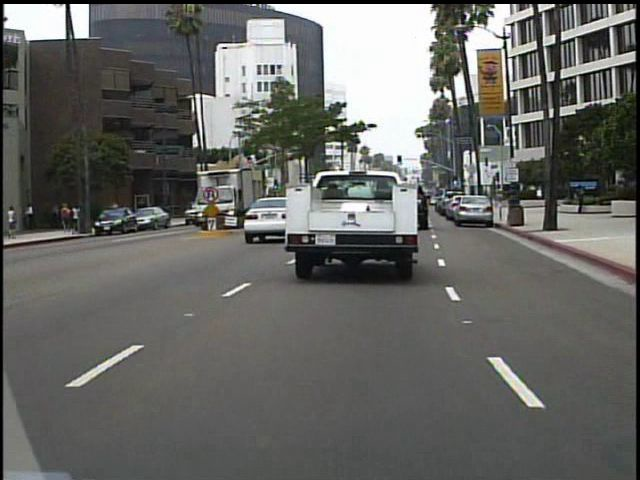person: (572, 180, 588, 215), (8, 201, 21, 240)
